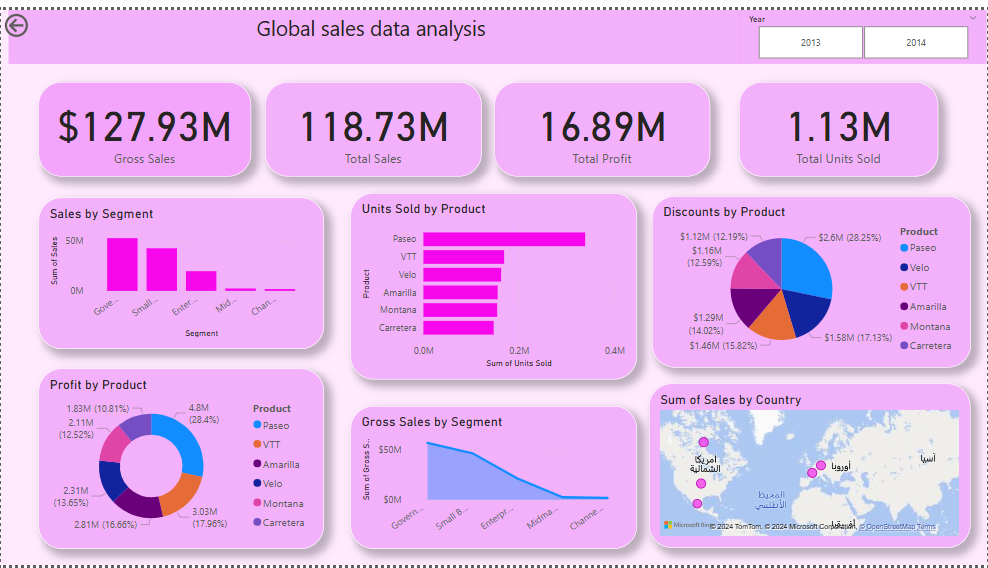

What the dashboard file says about the page in this screenshot:
{"tool":"powerbi","page":{"name":"Page ١","canvas":[1280,720],"ordinal":0},"visuals":[{"type":"textbox","box":[9.4,0,948.7,69.9],"z":0},{"type":"card","fields":{"Values":["Sum(financials.Gross Sales)"]},"box":[49.1,92.6,275.9,122.8],"z":1000},{"type":"card","fields":{"Values":["Sum(financials.Profit)"]},"box":[640.6,92.6,279.7,122.8],"z":2000},{"type":"card","fields":{"Values":["Sum(financials. Sales)"]},"box":[342,92.6,281.6,122.8],"z":3000},{"type":"card","fields":{"Values":["Sum(financials.Units Sold)"]},"box":[958.1,92.6,258.9,122.8],"z":4000},{"type":"slicer","fields":{"Values":["financials.Year"]},"box":[958.1,0,321.3,69.9],"z":5000},{"type":"actionButton","box":[0,0,100,40],"z":6000},{"type":"clusteredColumnChart","title":"Sales by Segment","fields":{"Y":["Sum(financials. Sales)"],"Category":["financials.Segment"]},"box":[49.1,243.8,370.4,196.5],"z":7000},{"type":"barChart","title":"Units Sold by Product","fields":{"Y":["Sum(financials.Units Sold)"],"Category":["financials.Product"]},"box":[453.5,238.1,372.3,241.9],"z":8000},{"type":"pieChart","title":"Discounts by Product","fields":{"Y":["Sum(financials.Discounts)"],"Category":["financials.Product"]},"box":[844.7,241.9,413.9,223],"z":8001},{"type":"donutChart","title":"Profit by Product","fields":{"Y":["Sum(financials.Profit)"],"Category":["financials.Product"]},"box":[49.1,464.9,370.4,234.3],"z":8002},{"type":"areaChart","title":"Gross Sales by Segment","fields":{"Category":["financials.Segment"],"Y":["Sum(financials.Gross Sales)"]},"box":[453.5,514,372.3,185.2],"z":8003},{"type":"map","fields":{"Category":["financials.Country"],"Size":["Sum(financials. Sales)"]},"box":[841,485.7,417.6,213.5],"z":8004}]}

Visuals, with their boxes in screenshot pixels (x1, y1, x2, y2), scaled from the page's 1280x720 canvas onto the 988x568 screenshot:
textbox: region(7, 0, 740, 55)
card - Sum(financials.Gross Sales): region(38, 73, 251, 170)
card - Sum(financials.Profit): region(494, 73, 710, 170)
card - Sum(financials. Sales): region(264, 73, 481, 170)
card - Sum(financials.Units Sold): region(740, 73, 939, 170)
slicer - financials.Year: region(740, 0, 987, 55)
actionButton: region(0, 0, 77, 32)
"Sales by Segment" clusteredColumnChart: region(38, 192, 324, 347)
"Units Sold by Product" barChart: region(350, 188, 637, 379)
"Discounts by Product" pieChart: region(652, 191, 971, 367)
"Profit by Product" donutChart: region(38, 367, 324, 552)
"Gross Sales by Segment" areaChart: region(350, 405, 637, 552)
map - financials.Country x Sum(financials. Sales): region(649, 383, 971, 552)
